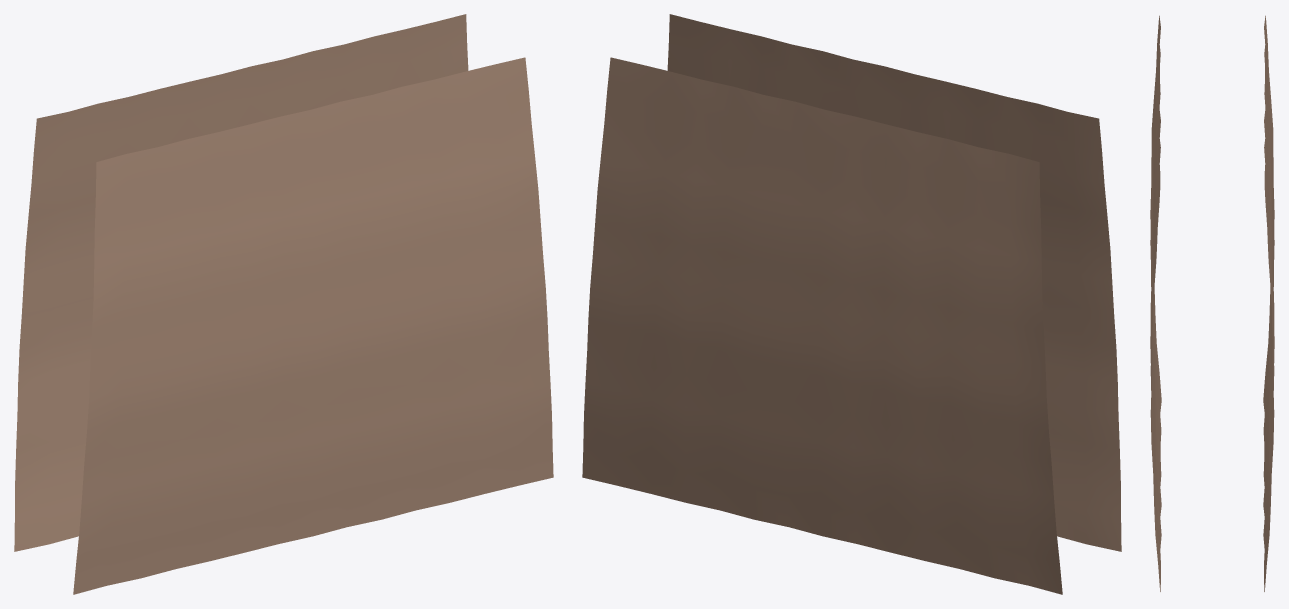
File: fallback.glb
3 renders of one model, left to right at view 1: azimuth 30°, elevation 25°; view 2: azimuth 150°, elevation 25°; view 3: azimuth 270°, elevation 25°, orthographic. The views are drawn at different scales.
Visible parts, largest first — view 1: simulation:clean:manual-skirt-02.front, simulation:clean:manual-skirt-02.back; view 2: simulation:clean:manual-skirt-02.back, simulation:clean:manual-skirt-02.front; view 3: simulation:clean:manual-skirt-02.front, simulation:clean:manual-skirt-02.back.
Boxes of the visible parts, x1,y1,x2,y2 form: simulation:clean:manual-skirt-02.front: (73, 57, 553, 594); simulation:clean:manual-skirt-02.back: (14, 14, 468, 551); simulation:clean:manual-skirt-02.back: (582, 57, 1062, 594); simulation:clean:manual-skirt-02.front: (667, 14, 1121, 551); simulation:clean:manual-skirt-02.front: (1150, 15, 1161, 591); simulation:clean:manual-skirt-02.back: (1263, 15, 1274, 591).
Size of the model in its own units: 1 by 0.85 by 0.251.
